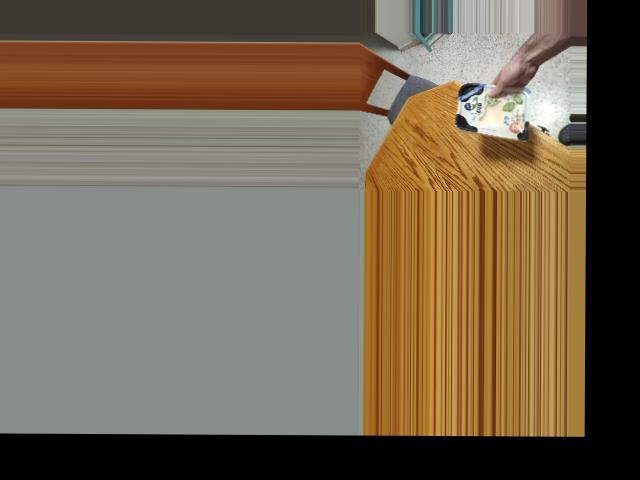cheese: (458, 83, 524, 135)
